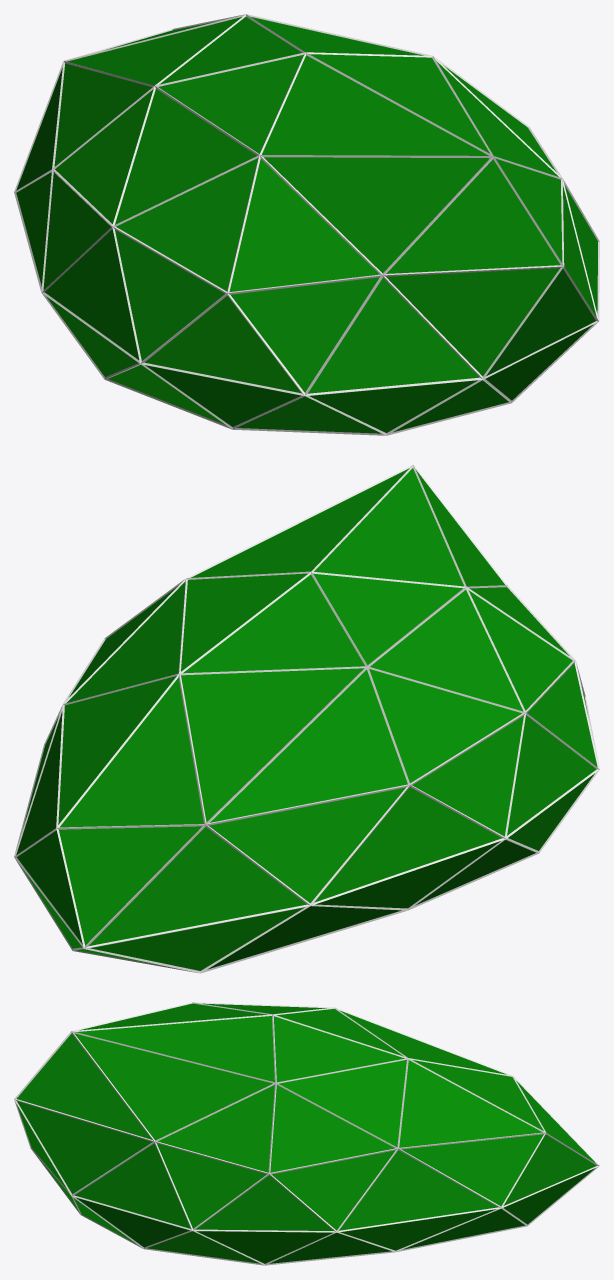
File: bush2.glb
3 views of the same model, one above another, from view 1: azimuth 30°, elevation 25°; view 2: azimuth 150°, elevation 25°; view 3: azimuth 270°, elevation 25° (orthographic). The views are drawn at different scales.
Parts seen in each view (by area): view 1: Icosphere.001, Icosphere; view 2: Icosphere.001, Icosphere; view 3: Icosphere.001, Icosphere.
Boxes of the visible parts, x1,y1,x2,y2 form: Icosphere.001: [16, 17, 597, 433]; Icosphere: [14, 14, 599, 435]; Icosphere.001: [16, 468, 597, 970]; Icosphere: [14, 464, 599, 973]; Icosphere.001: [16, 1003, 596, 1263]; Icosphere: [14, 1002, 599, 1265].
Size of the model in its own units: 1.01 by 0.589 by 1.59.
